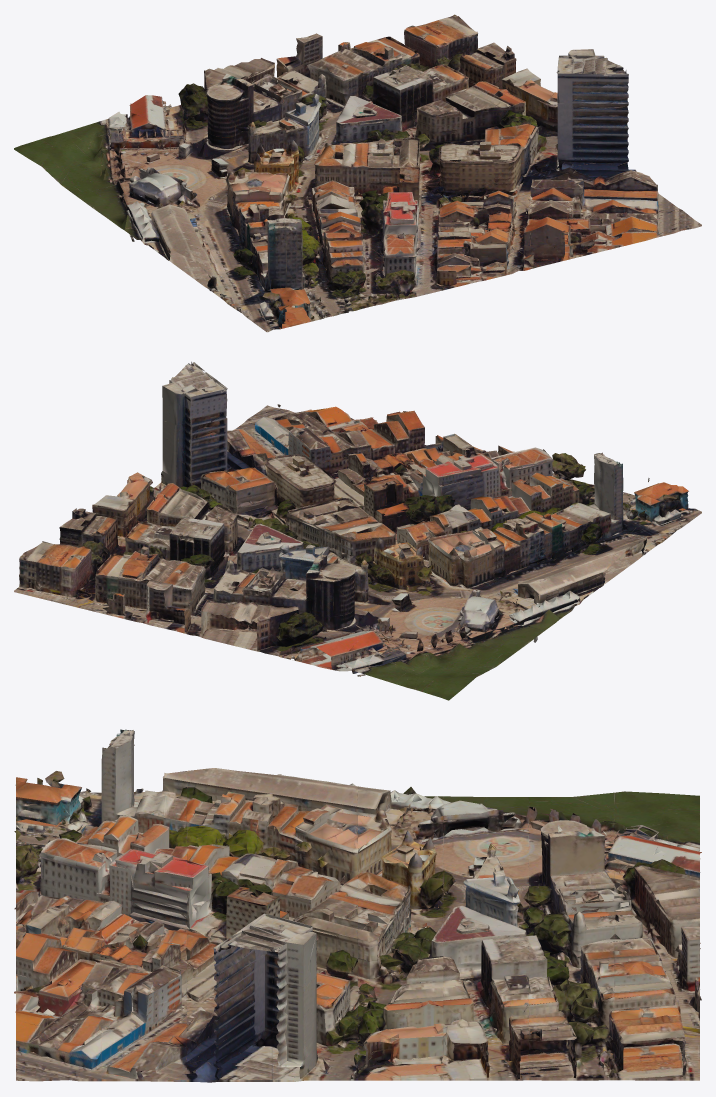
Rendered from marco_zero_centro.glb.
3 views of the same model, one above another, from view 1: azimuth 30°, elevation 25°; view 2: azimuth 150°, elevation 25°; view 3: azimuth 270°, elevation 25° (orthographic). The views are drawn at different scales.
Visible parts, largest first — view 1: marco_zero_centro; view 2: marco_zero_centro; view 3: marco_zero_centro.
Boxes of the visible parts, left/top/right/bottom form: marco_zero_centro: left=14, top=14, right=701, bottom=332; marco_zero_centro: left=14, top=361, right=701, bottom=700; marco_zero_centro: left=14, top=729, right=701, bottom=1082.
Size of the model in its own units: 307 by 83.5 by 309.
Materials: 1 (1 with a texture image).
